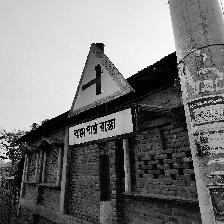Side-road-left: (65, 43, 137, 147)
